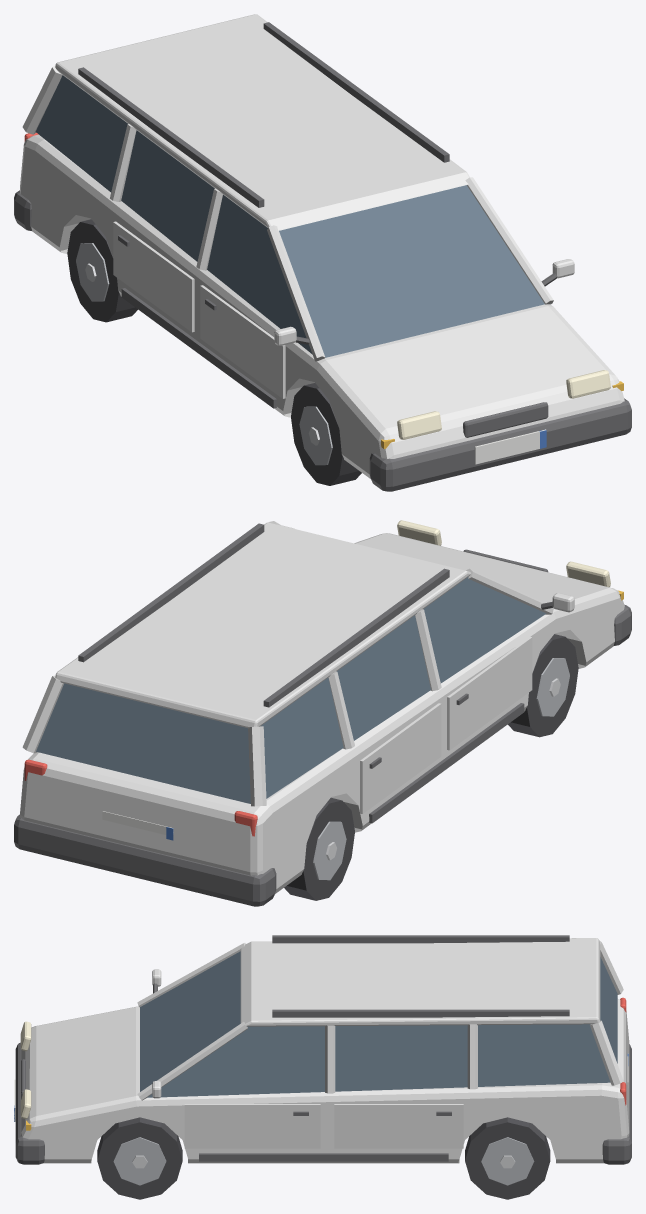
Rendered from car-estate.glb.
3 renders of one model, top to bottom at view 1: azimuth 30°, elevation 25°; view 2: azimuth 150°, elevation 25°; view 3: azimuth 270°, elevation 25°, orthographic. The views are drawn at different scales.
Parts seen in each view (by area): view 1: body, detach_bumper_front, detach_door_right, wheel-front-right, wheel-back-right; view 2: body, detach_bumper_back, detach_door_right, wheel-back-right, wheel-front-right, detach_bumper_front; view 3: body, detach_door_left, wheel-front-left, wheel-back-left, detach_bumper_front, detach_bumper_back.
Part boxes in pixels (x1,y1,x2,y2): body: [20, 14, 624, 478]; detach_bumper_front: [369, 398, 631, 491]; detach_door_right: [200, 285, 285, 398]; wheel-front-right: [291, 383, 361, 485]; wheel-back-right: [67, 219, 137, 322]; body: [20, 520, 624, 893]; detach_bumper_back: [14, 814, 276, 906]; detach_door_right: [447, 636, 532, 750]; wheel-back-right: [284, 797, 354, 900]; wheel-front-right: [508, 634, 578, 737]; detach_bumper_front: [613, 605, 631, 645]; body: [20, 935, 629, 1163]; detach_door_left: [184, 1104, 320, 1148]; wheel-front-left: [97, 1117, 182, 1199]; wheel-back-left: [465, 1117, 550, 1199]; detach_bumper_front: [14, 1042, 44, 1164]; detach_bumper_back: [602, 1044, 631, 1164].
Bounding box in the file's own units: 2.18 × 1.52 × 4.77.
